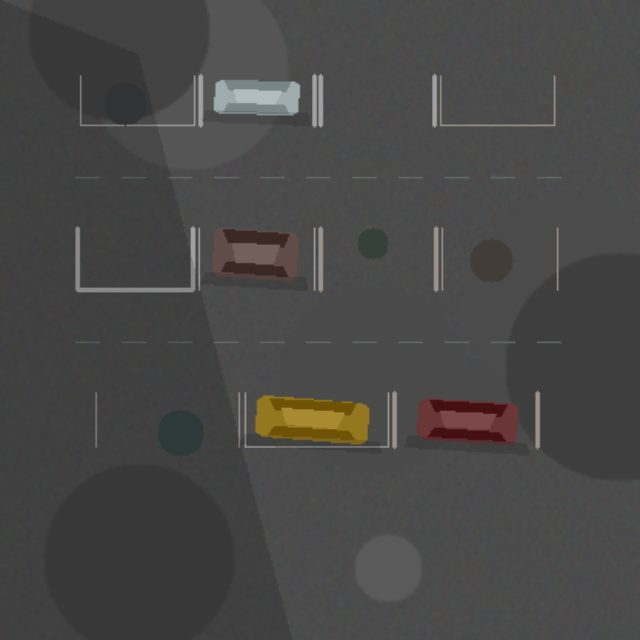space-empty: (95, 392, 238, 446), (77, 228, 192, 289), (320, 228, 435, 289), (442, 228, 557, 289), (80, 75, 194, 125), (320, 75, 434, 125), (440, 75, 554, 125)
space-occupied: (245, 392, 388, 446), (394, 392, 537, 446), (198, 228, 314, 289), (200, 75, 314, 125)
